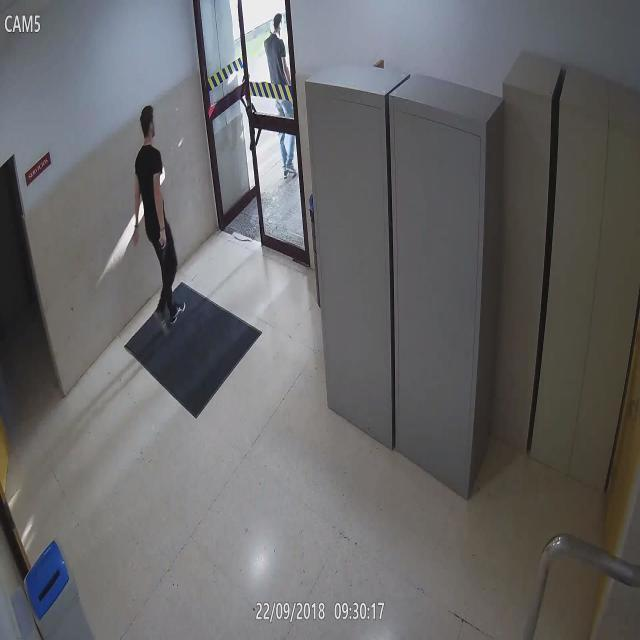weapon: (159, 241, 166, 263)
